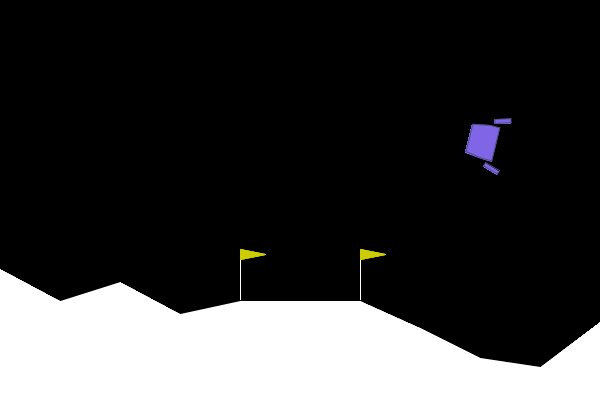lander: (460, 109, 513, 176)
